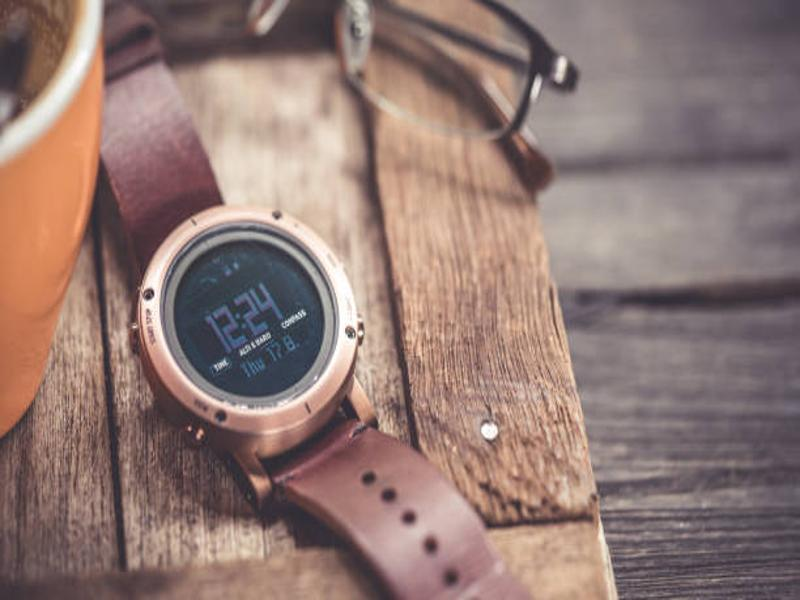watch: (84, 14, 481, 585)
